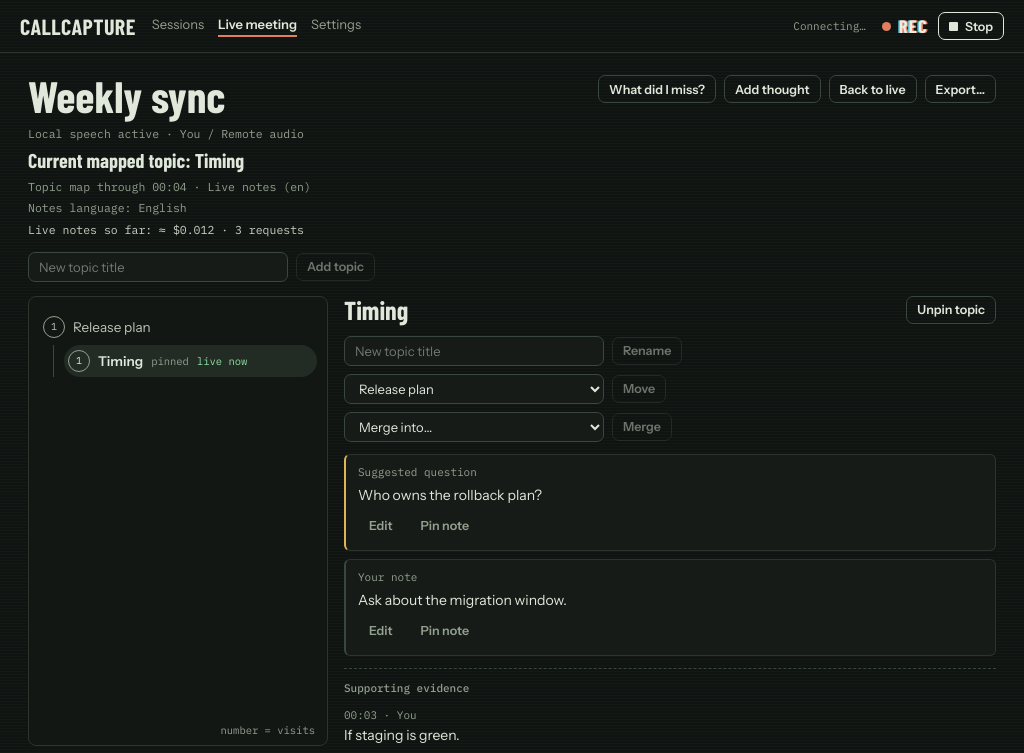
Test case: LivePage › shows a refused action as a sentence next to the control
Select "Top level" in the 1st dropdown named "Move Timing under": (474, 389) [344,374,604,404]
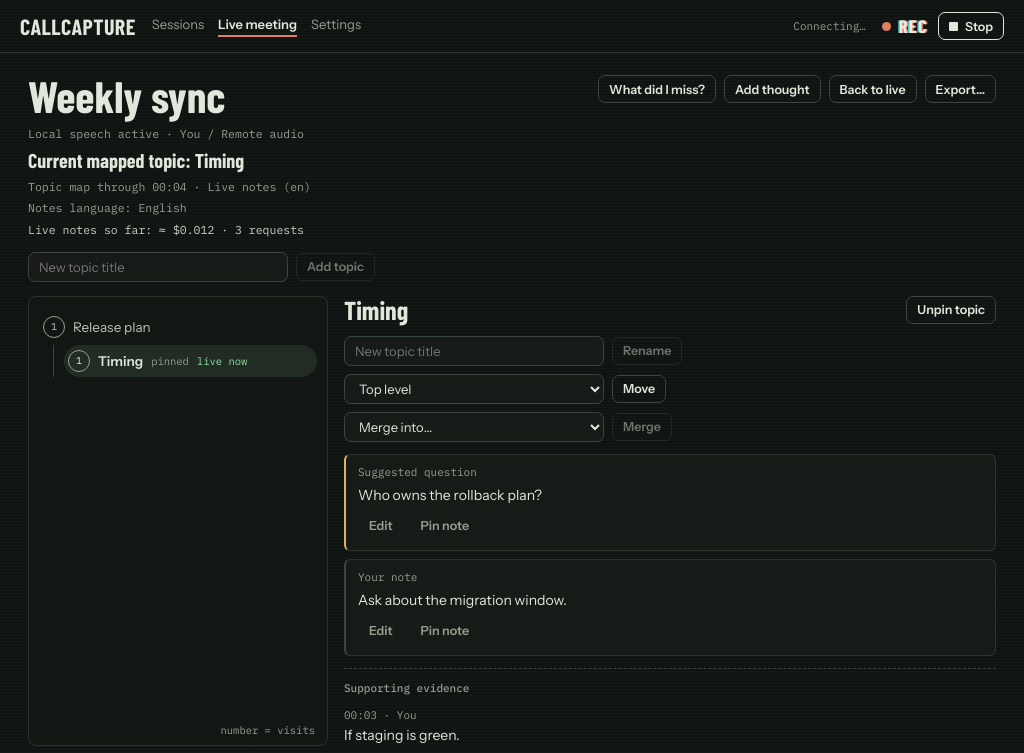
Click the button "Move": click(639, 389) [612,375,666,403]
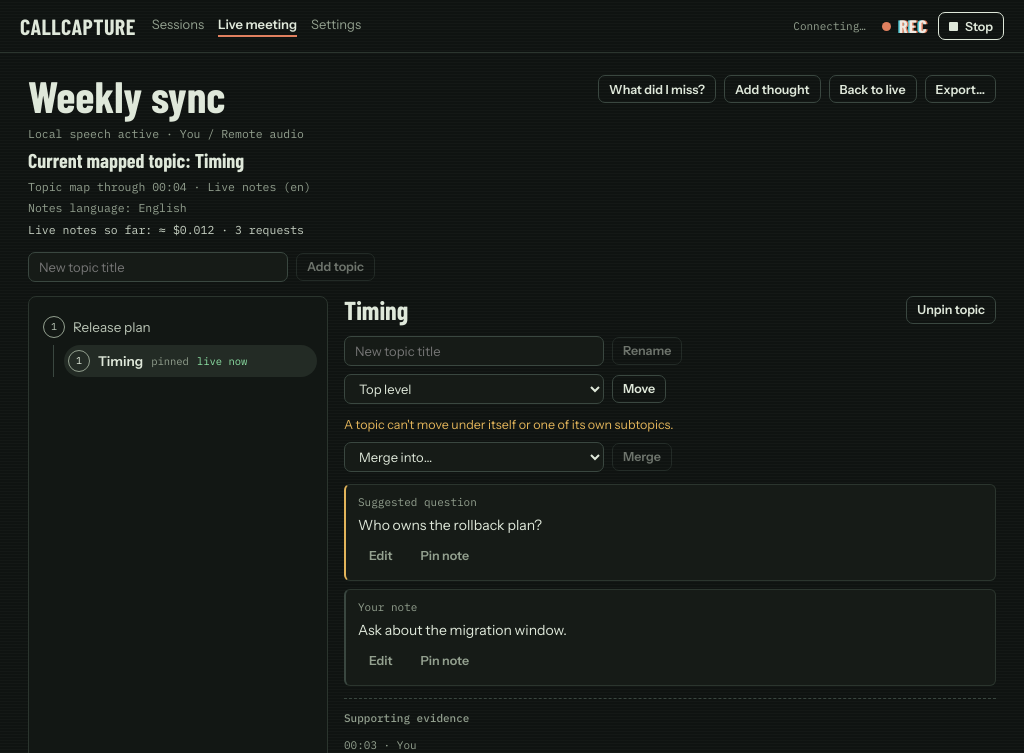
Expected: the text "A topic can't move under itself or one of its own subtopics." is shown, [344,417,673,432]
